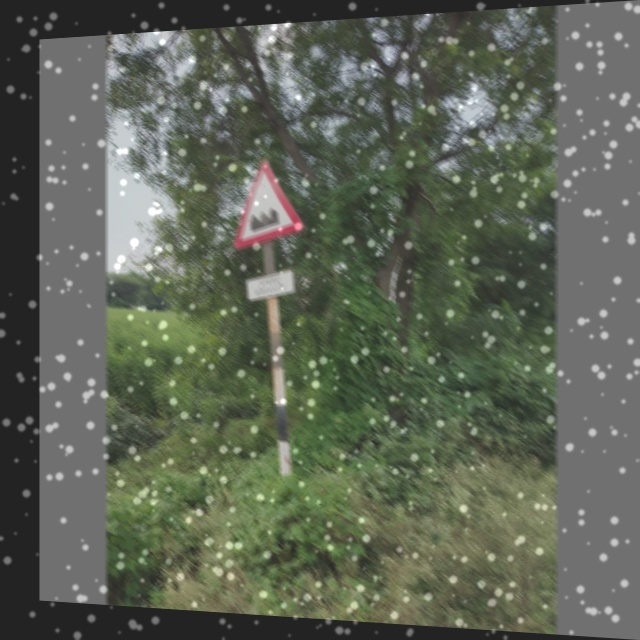Hump_or_Rough_Road: (231, 156, 305, 246)
